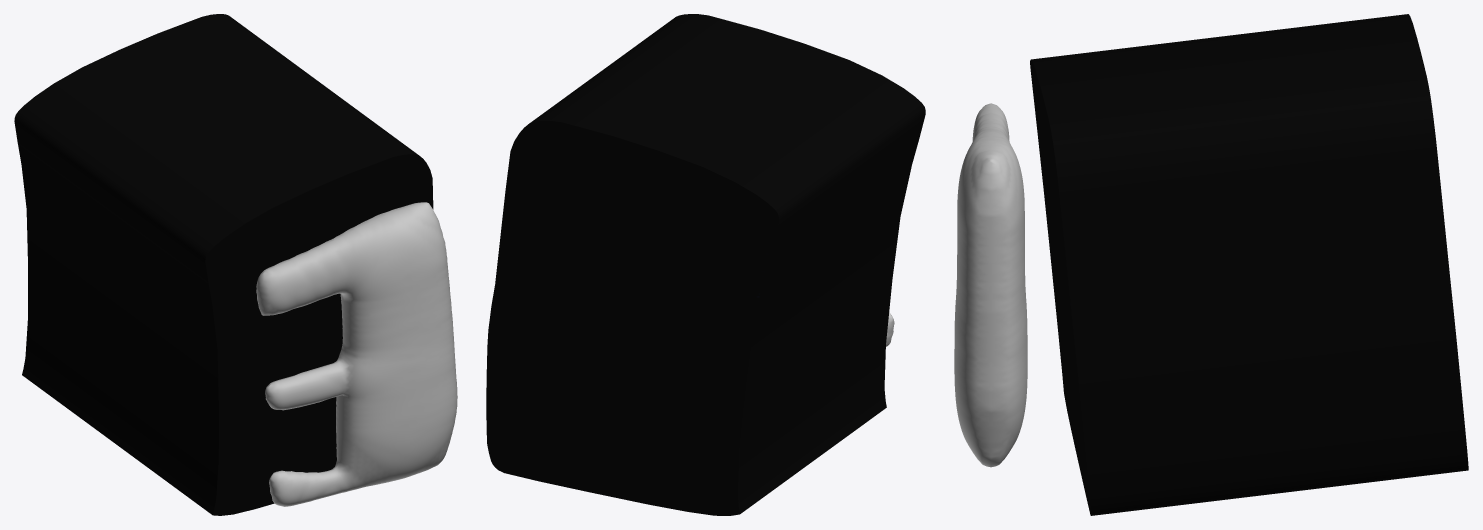
File: num3.glb
3 views of the same model, side by side, from view 1: azimuth 30°, elevation 25°; view 2: azimuth 150°, elevation 25°; view 3: azimuth 270°, elevation 25° (orthographic). The views are drawn at different scales.
Visible parts, largest first — view 1: mesh_id30, mesh_id28; view 2: mesh_id30; view 3: mesh_id30, mesh_id28.
Boxes of the visible parts, x1,y1,x2,y2 form: mesh_id30: (14,14,433,515); mesh_id28: (256,202,457,506); mesh_id30: (486,14,925,515); mesh_id30: (1030,14,1468,515); mesh_id28: (954,103,1027,467).
Bounding box in the file's own units: 0.097 × 0.118 × 0.1351.
2 materials, 2 textured.
